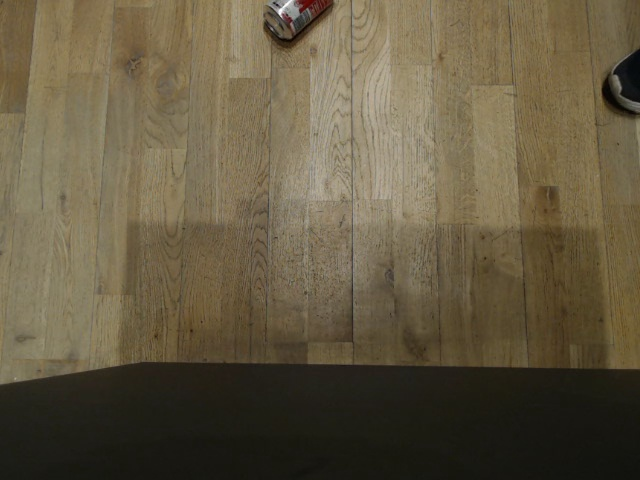cola: (262, 0, 327, 46)
